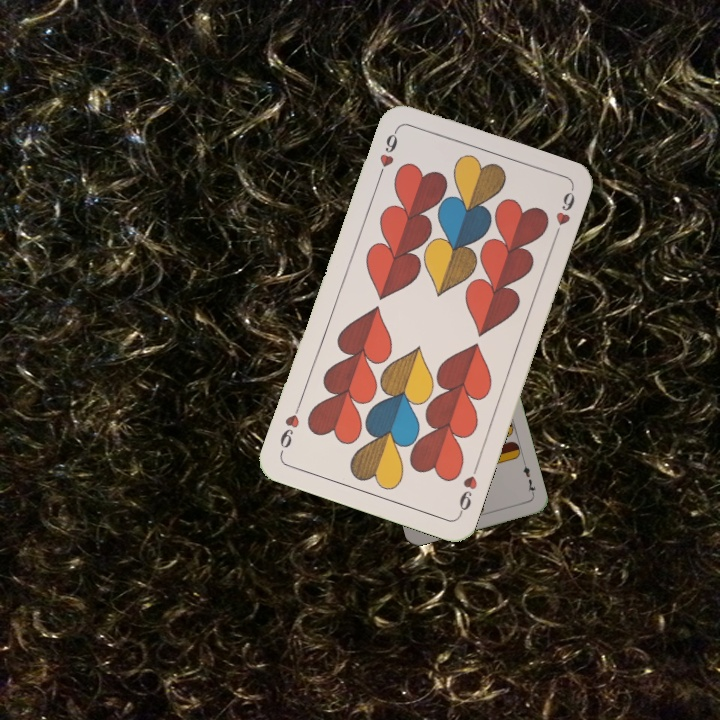E7: (519, 458, 538, 498)
H9: (455, 460, 482, 518), (373, 126, 400, 183)
